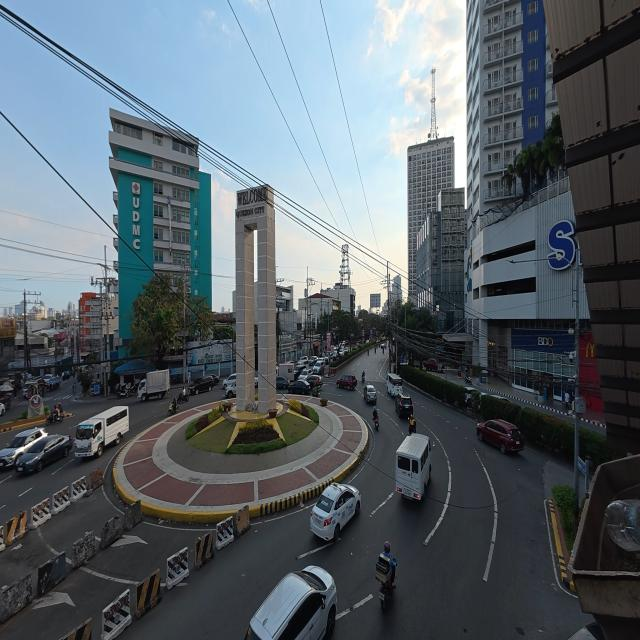car: (245, 566, 337, 639), (311, 483, 360, 540), (16, 435, 73, 472), (0, 428, 47, 468), (477, 420, 524, 453), (189, 376, 219, 394), (396, 393, 413, 418), (480, 392, 511, 403), (23, 382, 44, 398), (289, 380, 311, 395), (337, 375, 357, 390), (465, 387, 479, 406), (423, 359, 442, 372), (305, 374, 322, 387), (223, 374, 236, 391), (364, 385, 376, 403), (490, 394, 511, 403), (225, 381, 236, 398), (0, 394, 12, 409), (276, 376, 289, 389), (313, 359, 324, 374), (294, 365, 305, 379), (298, 368, 311, 379), (297, 356, 308, 366), (308, 356, 318, 367), (44, 374, 53, 382), (0, 403, 6, 415), (255, 371, 259, 387), (343, 347, 349, 354)
motorcycle: (376, 554, 393, 609), (46, 412, 64, 424), (117, 385, 130, 398), (168, 401, 178, 416), (177, 392, 188, 403), (409, 423, 416, 435), (312, 385, 319, 397), (374, 418, 379, 430), (465, 375, 471, 384), (362, 372, 365, 383), (368, 349, 369, 356)
trucks: (138, 370, 169, 400)
vans: (75, 406, 129, 457), (396, 434, 431, 499), (387, 373, 402, 396)
